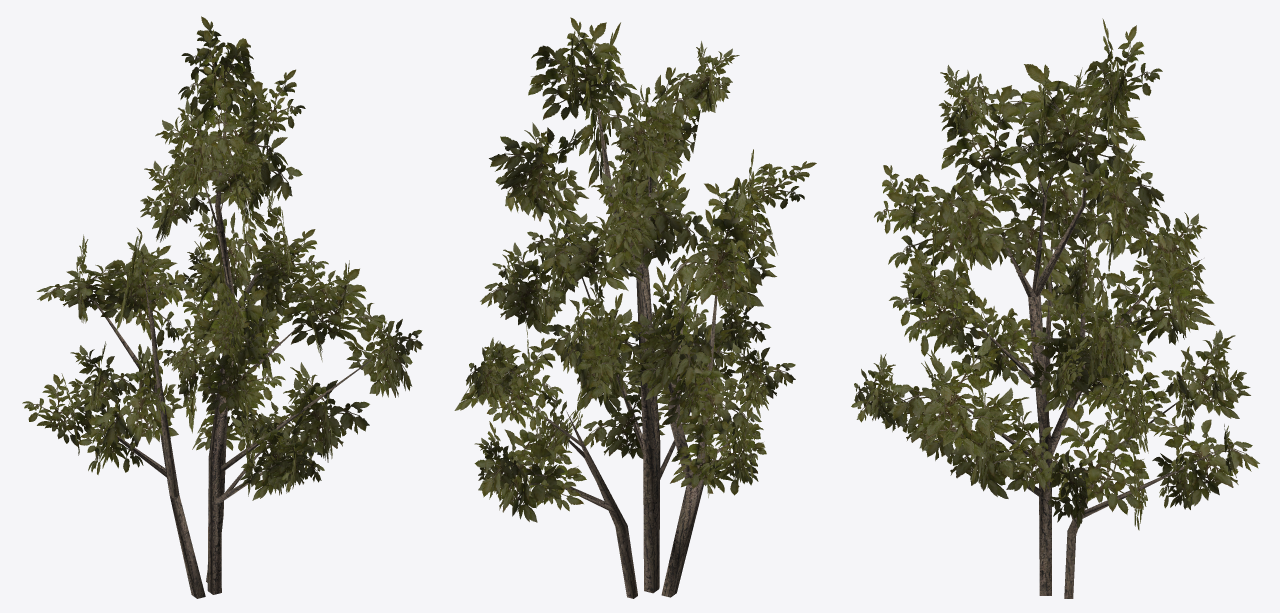
Rendered from Vegetation_Tree03_lod1.glb.
The picture shows the model from 3 angles, left to right: view 1: azimuth 30°, elevation 25°; view 2: azimuth 150°, elevation 25°; view 3: azimuth 270°, elevation 25°; orthographic projection. The views are drawn at different scales.
Visible parts, largest first — view 1: xiutz_tree03_lod1_0; view 2: xiutz_tree03_lod1_0; view 3: xiutz_tree03_lod1_0.
Part boxes in pixels (bbox=[...]): xiutz_tree03_lod1_0: bbox=[22, 16, 422, 598]; xiutz_tree03_lod1_0: bbox=[454, 17, 816, 598]; xiutz_tree03_lod1_0: bbox=[851, 18, 1259, 598].
Bounding box in the file's own units: 5.18 × 8.57 × 5.51.
Materials: 2 (2 with a texture image).
